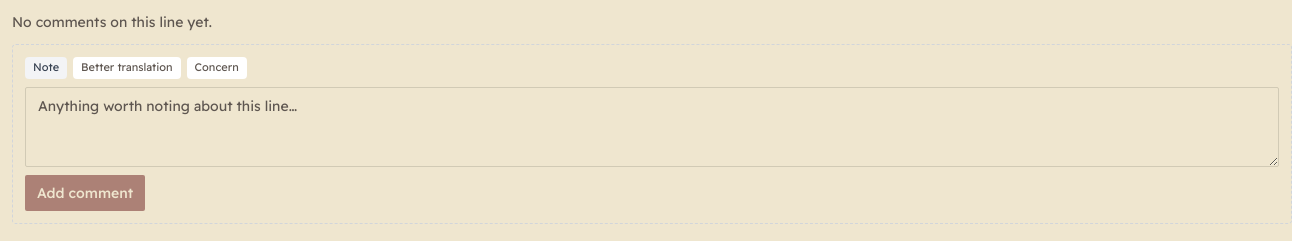
writing one › clears the box after sending, ready for the next line
Type "Noted." into the text box named "Comment".
click(652, 127); type("Noted.")  # box [25, 87, 1279, 167]
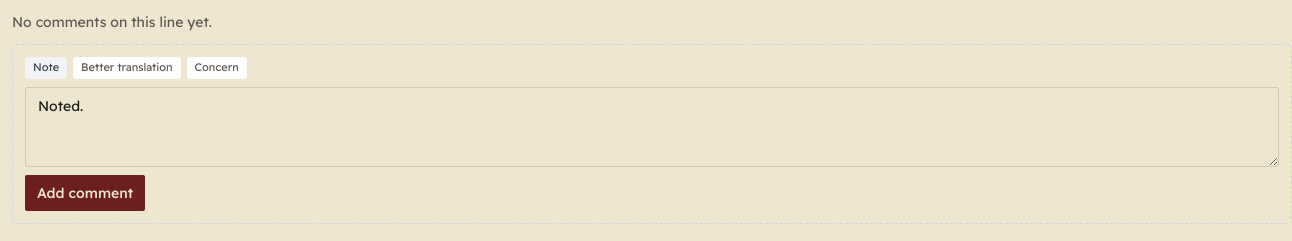
Click the button "Add comment".
click(85, 193)  # box [25, 175, 145, 211]
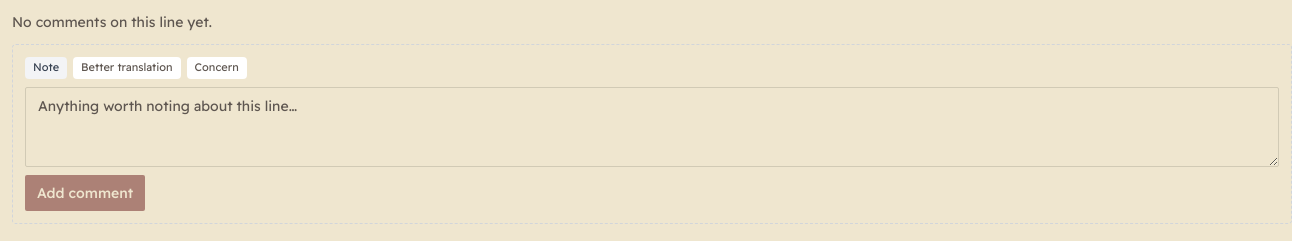
Expected: the text box named "Comment" is empty, [25, 87, 1279, 167]
